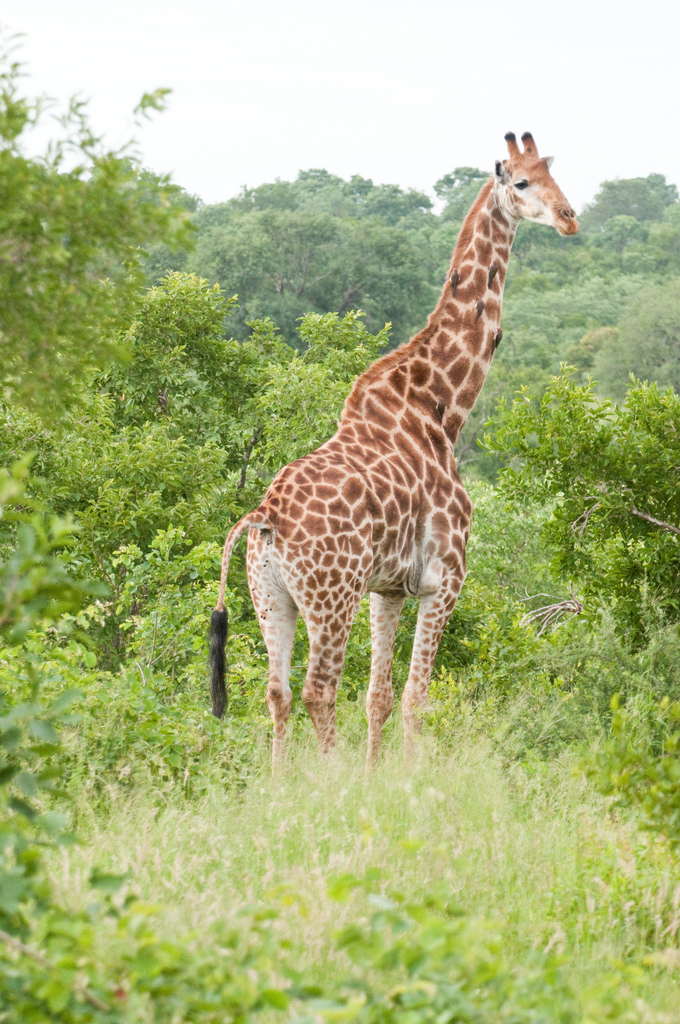giraffe: (207, 117, 630, 774)
